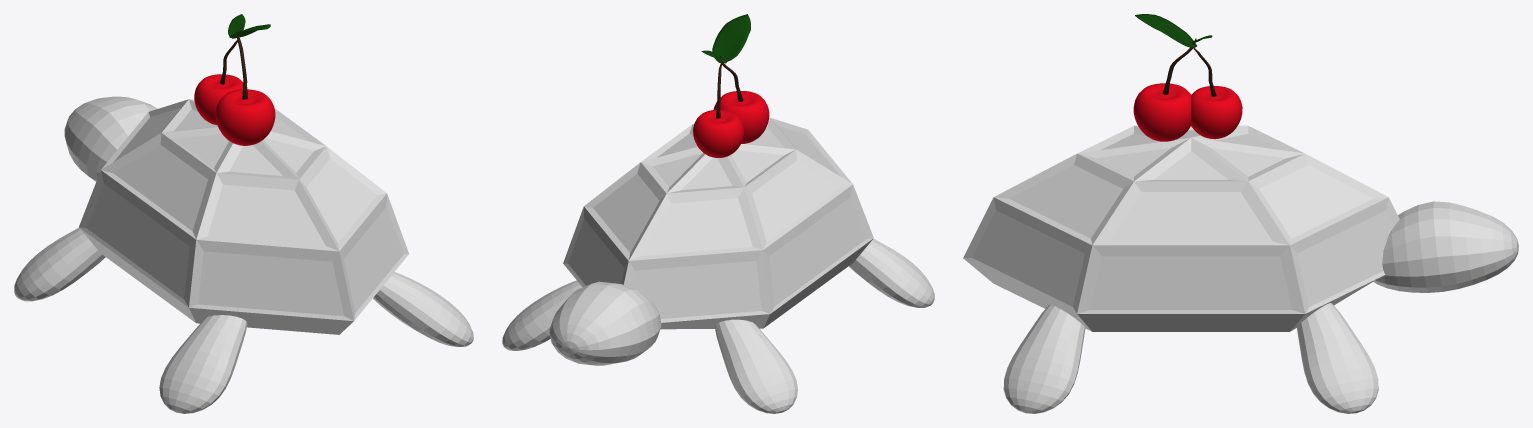
The model's file is turtletowercherry.gltf.
3 views of the same model, side by side, from view 1: azimuth 30°, elevation 25°; view 2: azimuth 150°, elevation 25°; view 3: azimuth 270°, elevation 25° (orthographic). The views are drawn at different scales.
Parts seen in each view (by area): view 1: Sphere, Sphere.001, Sphere.002; view 2: Sphere, Sphere.002, Sphere.001, Plane; view 3: Sphere, Sphere.001, Sphere.002, Plane.
Part boxes in pixels (box(x1,y1,x2,y2)): Sphere: box(14, 96, 473, 413); Sphere.001: box(215, 30, 275, 145); Sphere.002: box(194, 38, 243, 124); Sphere: box(502, 118, 934, 413); Sphere.002: box(693, 63, 743, 157); Sphere.001: box(713, 56, 769, 143); Plane: box(712, 14, 750, 62); Sphere: box(963, 125, 1518, 413); Sphere.001: box(1133, 38, 1196, 141); Sphere.002: box(1191, 48, 1242, 139); Plane: box(1135, 14, 1196, 47).
Bounding box in the file's own units: 2.4 × 2.34 × 3.66.
